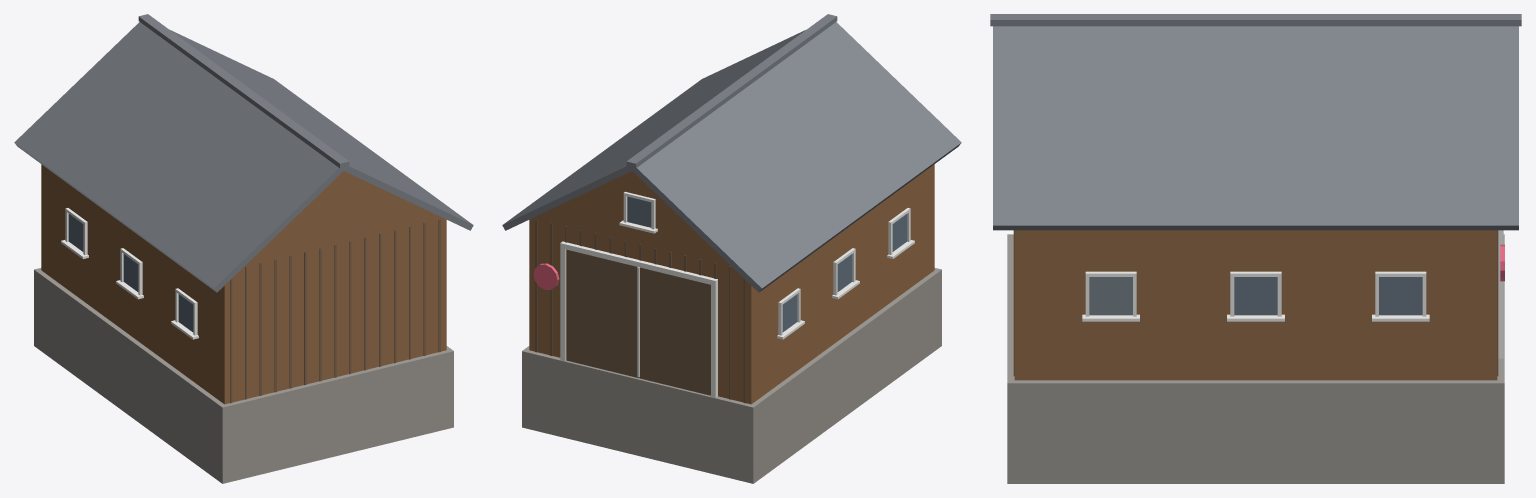
Rendered from boathouse.glb.
3 renders of one model, left to right at view 1: azimuth 30°, elevation 25°; view 2: azimuth 150°, elevation 25°; view 3: azimuth 270°, elevation 25°, orthographic. The views are drawn at different scales.
Visible parts, largest first — view 1: boathouse; view 2: boathouse; view 3: boathouse.
Boxes of the visible parts, <box> form: boathouse: <box>14,14,473,483</box>; boathouse: <box>502,14,961,483</box>; boathouse: <box>990,14,1521,483</box>.
Size of the model in its own units: 8.19 by 8.97 by 11.
